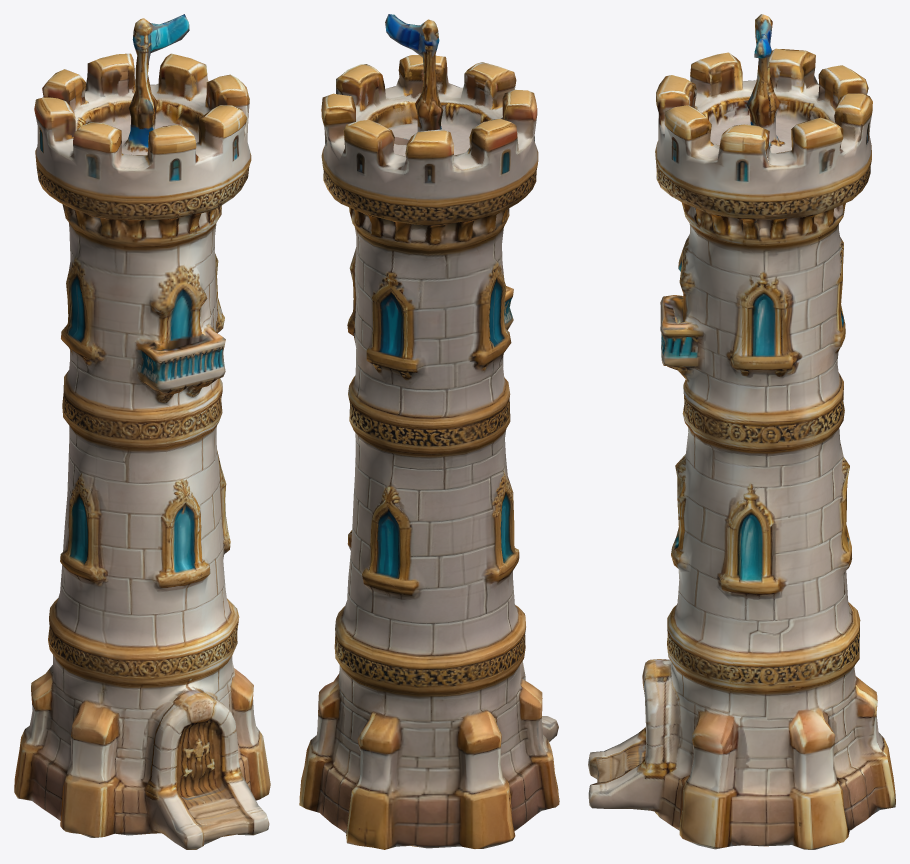
The model's file is 롯데_코너타워.glb.
The picture shows the model from 3 angles, left to right: view 1: azimuth 30°, elevation 25°; view 2: azimuth 150°, elevation 25°; view 3: azimuth 270°, elevation 25°; orthographic projection.
Parts seen in each view (by area): view 1: texture_mapping; view 2: texture_mapping; view 3: texture_mapping.
Boxes of the visible parts, x1,y1,x2,y2 form: texture_mapping: (14, 14, 270, 849); texture_mapping: (299, 14, 559, 849); texture_mapping: (588, 14, 895, 849).
Size of the model in its own units: 0.2824 by 1 by 0.3555.
Materials: 1 (1 with a texture image).
